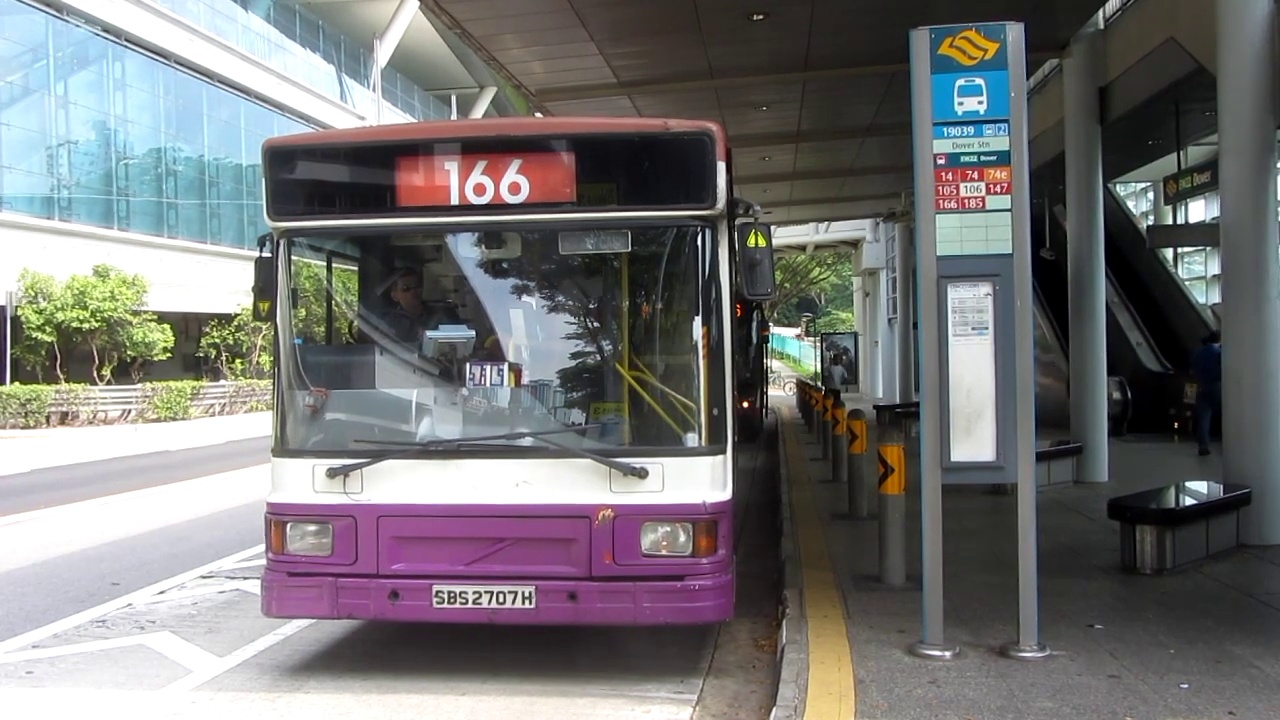bus panel: (390, 150, 580, 209)
